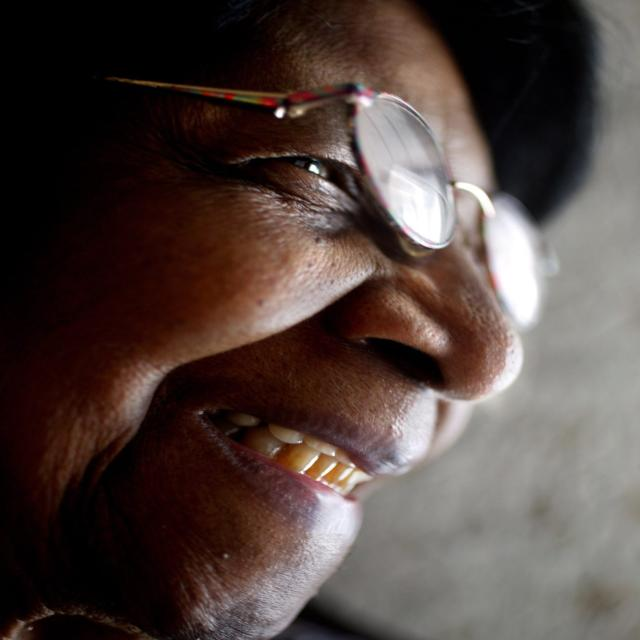sem_oculos: (9, 39, 568, 304)
